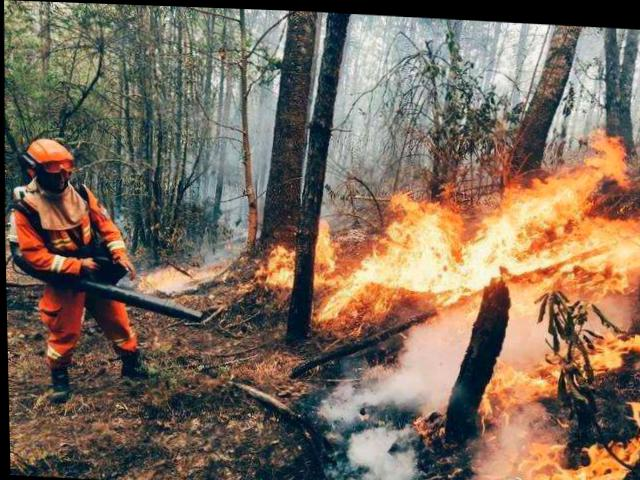fire: (269, 112, 639, 479), (134, 248, 219, 301)
